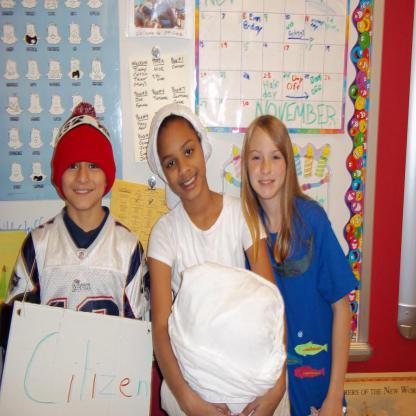face: (160, 121, 207, 199), (64, 143, 107, 209), (249, 126, 287, 197)
